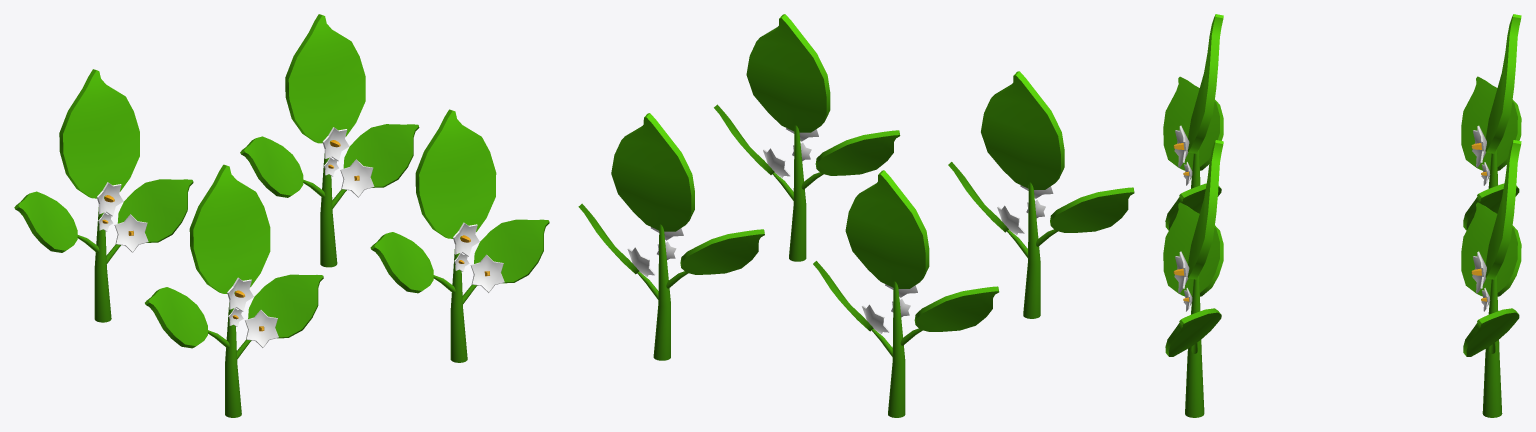
File: Farm_Crop_Potato_Step_02.fbx
3 views of the same model, side by side, from view 1: azimuth 30°, elevation 25°; view 2: azimuth 150°, elevation 25°; view 3: azimuth 270°, elevation 25° (orthographic). The views are drawn at different scales.
Parts seen in each view (by area): view 1: Farm_Crop_Potato_Step_02; view 2: Farm_Crop_Potato_Step_02; view 3: Farm_Crop_Potato_Step_02.
Boxes of the visible parts, left/top/right/bottom form: Farm_Crop_Potato_Step_02: left=14, top=14, right=549, bottom=417; Farm_Crop_Potato_Step_02: left=578, top=14, right=1134, bottom=417; Farm_Crop_Potato_Step_02: left=1163, top=14, right=1521, bottom=417.
Bounding box in the file's own units: 179 × 102 × 120.
